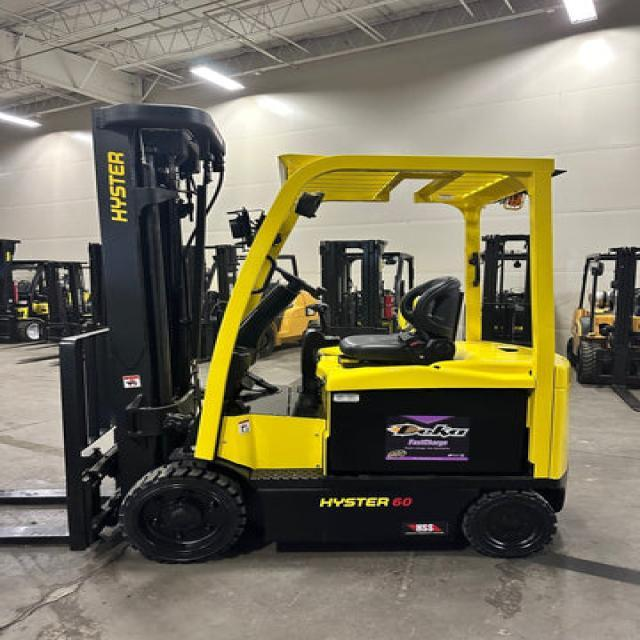forklift: (53, 88, 583, 612)
